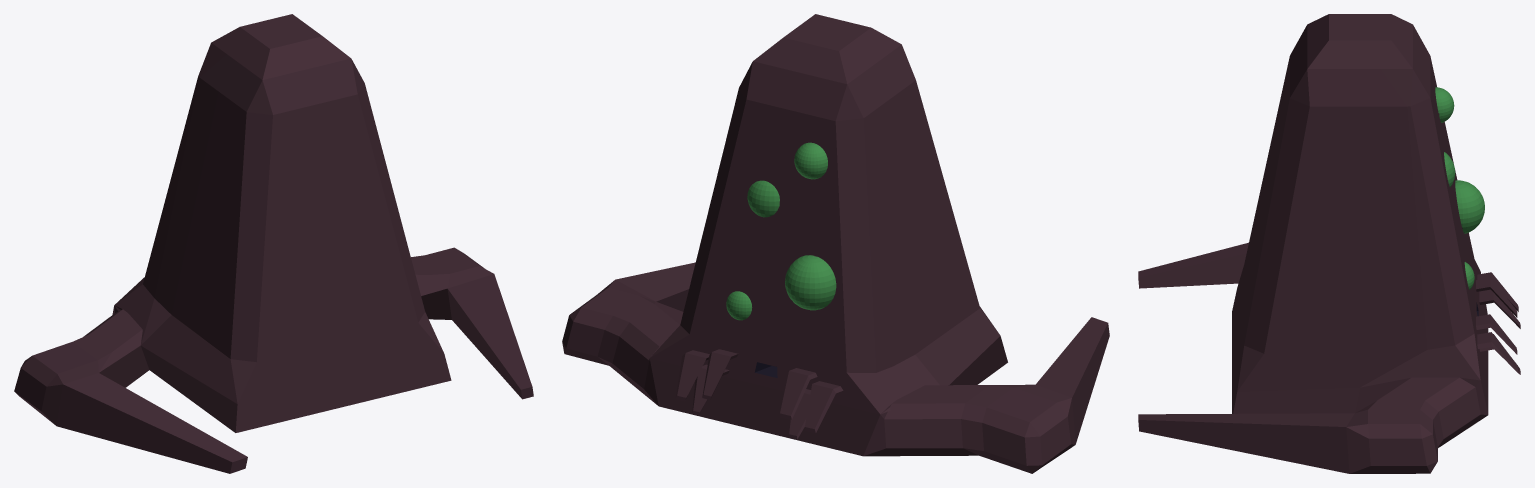
File: alien.glb
3 renders of one model, left to right at view 1: azimuth 30°, elevation 25°; view 2: azimuth 150°, elevation 25°; view 3: azimuth 270°, elevation 25°, orthographic. The views are drawn at different scales.
Parts seen in each view (by area): view 1: Sphere.003; view 2: Sphere.003; view 3: Sphere.003.
Boxes of the visible parts, x1,y1,x2,y2 form: Sphere.003: (14,14,533,473); Sphere.003: (562,14,1109,473); Sphere.003: (1138,14,1520,473).
Bounding box in the file's own units: 8.05 × 5.71 × 5.73.
Materials: 1 (1 with a texture image).
